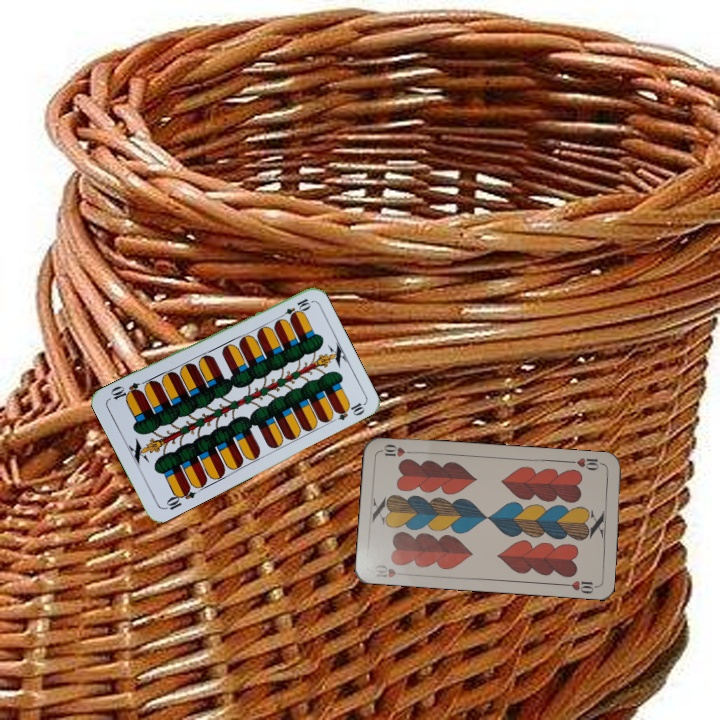E10: (160, 482, 198, 513), (275, 294, 313, 322)
H10: (371, 560, 410, 580), (566, 454, 607, 473)
